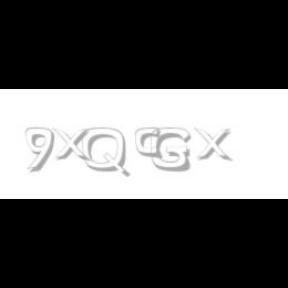9: (26, 128, 54, 172)
G: (151, 128, 191, 172)
Q: (82, 128, 128, 178)
c: (136, 128, 164, 160)
x: (52, 128, 94, 162), (194, 128, 236, 162)
